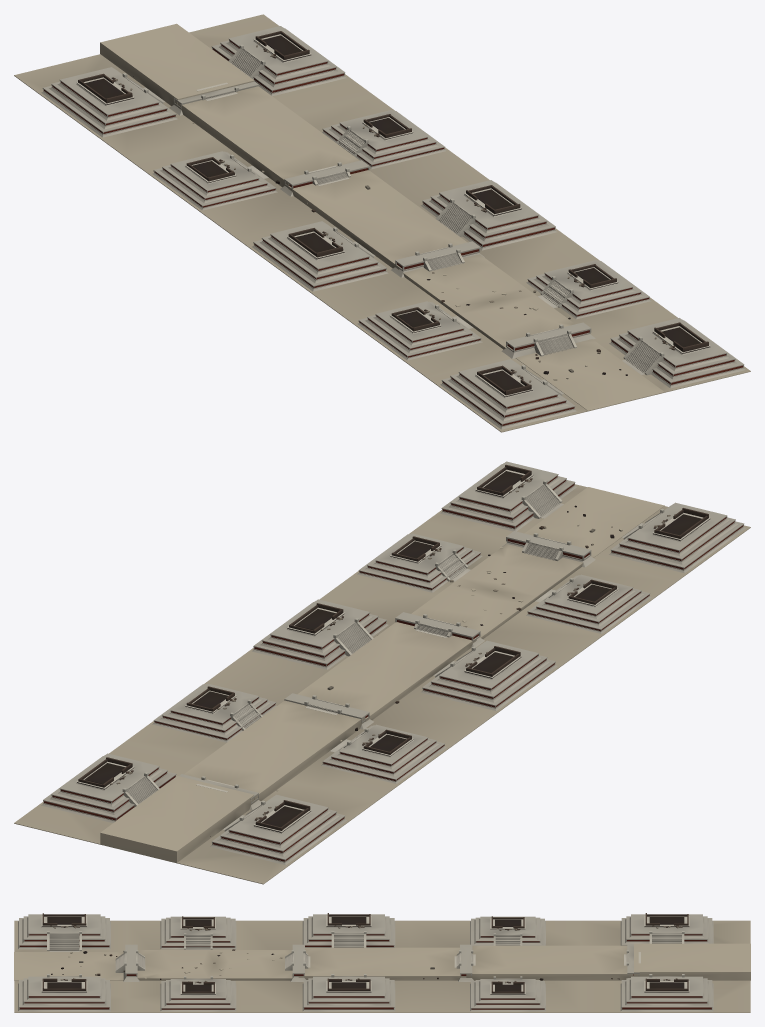
File: avenue-of-the-dead-650.glb
The picture shows the model from 3 angles, top to bottom: view 1: azimuth 30°, elevation 25°; view 2: azimuth 150°, elevation 25°; view 3: azimuth 270°, elevation 25°; orthographic projection. The views are drawn at different scales.
Visible parts, largest first — view 1: p0_avenue, p1_walls, p2_debris; view 2: p0_avenue, p1_walls, p2_debris; view 3: p0_avenue, p1_walls, p2_debris.
Part boxes in pixels (x1,y1,x2,y2): p0_avenue: [14, 14, 750, 432]; p1_walls: [41, 26, 745, 429]; p2_debris: [133, 76, 651, 380]; p0_avenue: [14, 484, 750, 884]; p1_walls: [41, 461, 745, 865]; p2_debris: [152, 505, 651, 836]; p0_avenue: [14, 920, 750, 1012]; p1_walls: [18, 913, 713, 1011]; p2_debris: [51, 916, 619, 1011].
Size of the model in its own units: 130 by 10.81 by 440.
